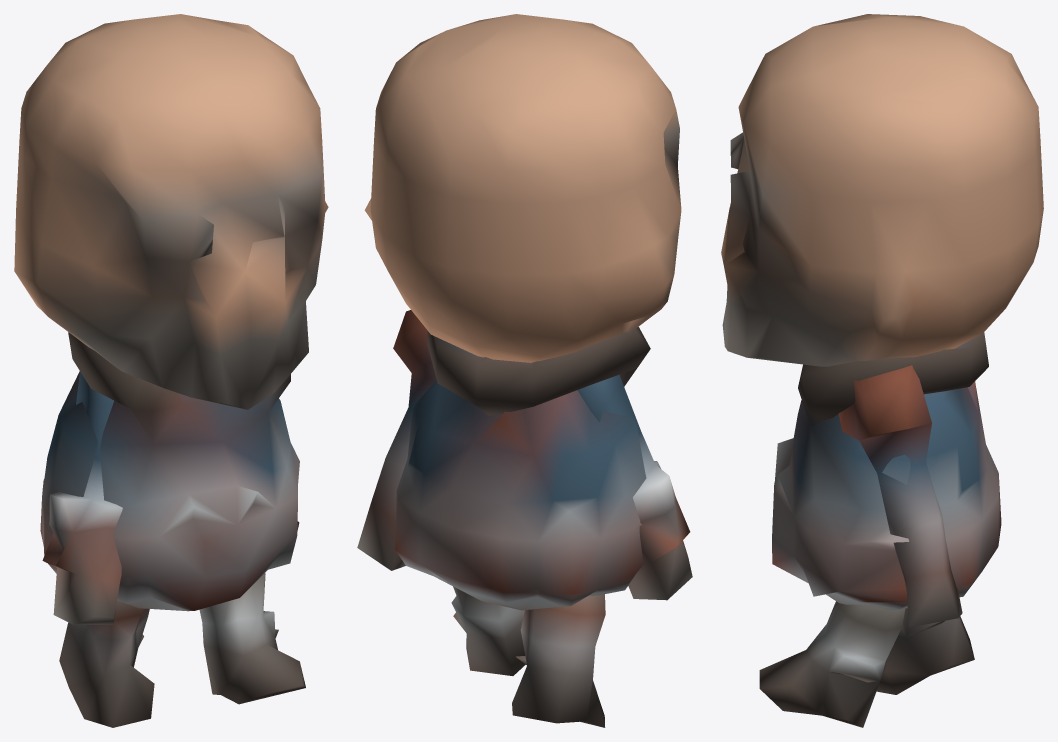
File: char2-nam-1.glb
The picture shows the model from 3 angles, left to right: view 1: azimuth 30°, elevation 25°; view 2: azimuth 150°, elevation 25°; view 3: azimuth 270°, elevation 25°; orthographic projection.
Parts seen in each view (by area): view 1: char; view 2: char; view 3: char.
Boxes of the visible parts, left/top/right/bottom form: char: left=14, top=14, right=328, bottom=727; char: left=357, top=14, right=692, bottom=727; char: left=721, top=14, right=1043, bottom=727.
Size of the model in its own units: 1.04 by 2.18 by 0.9557.
